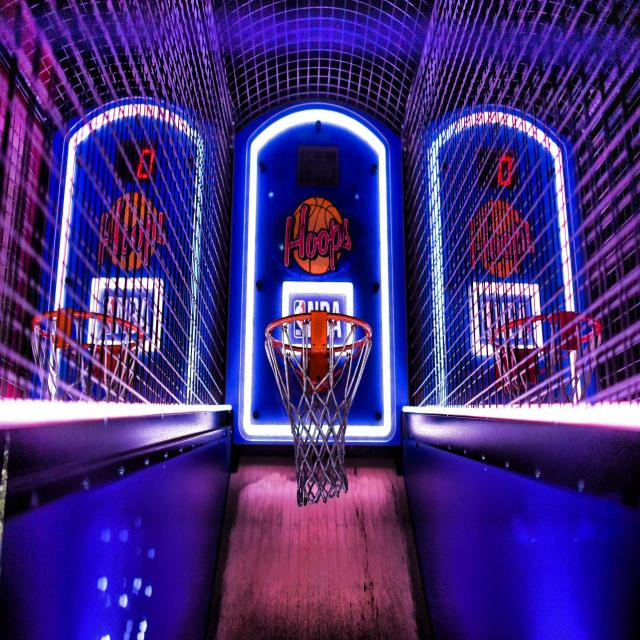rim: (264, 311, 372, 508)
